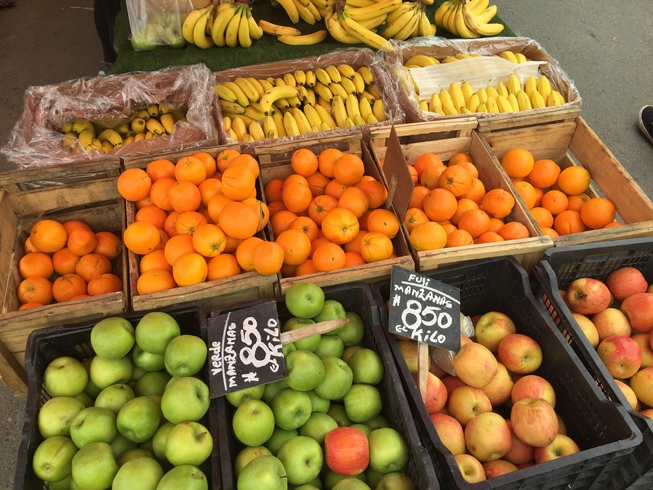precio: (196, 291, 295, 410), (383, 262, 473, 361)
